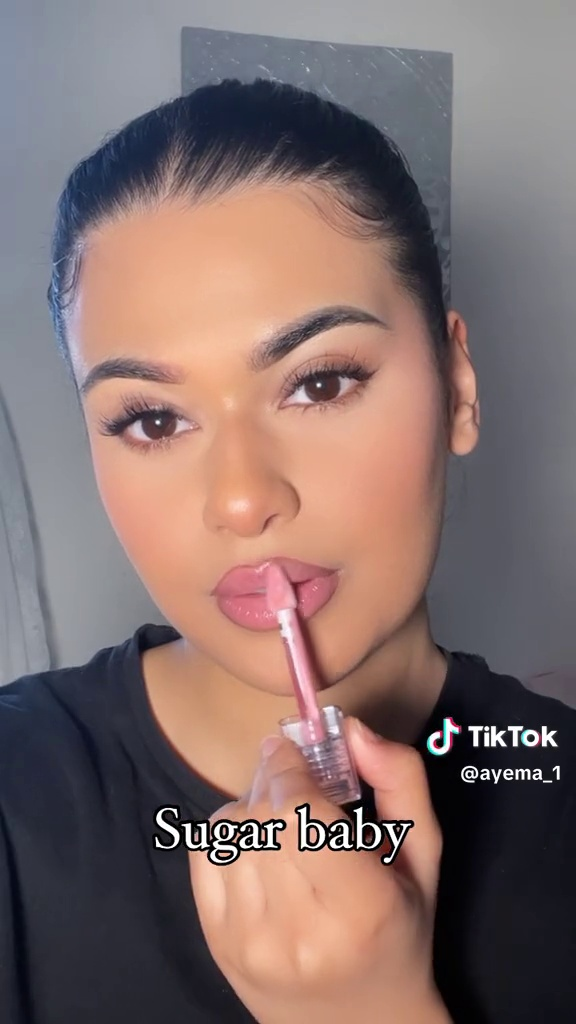train' :'yolo_data/train/images',: (256, 560, 372, 816)
